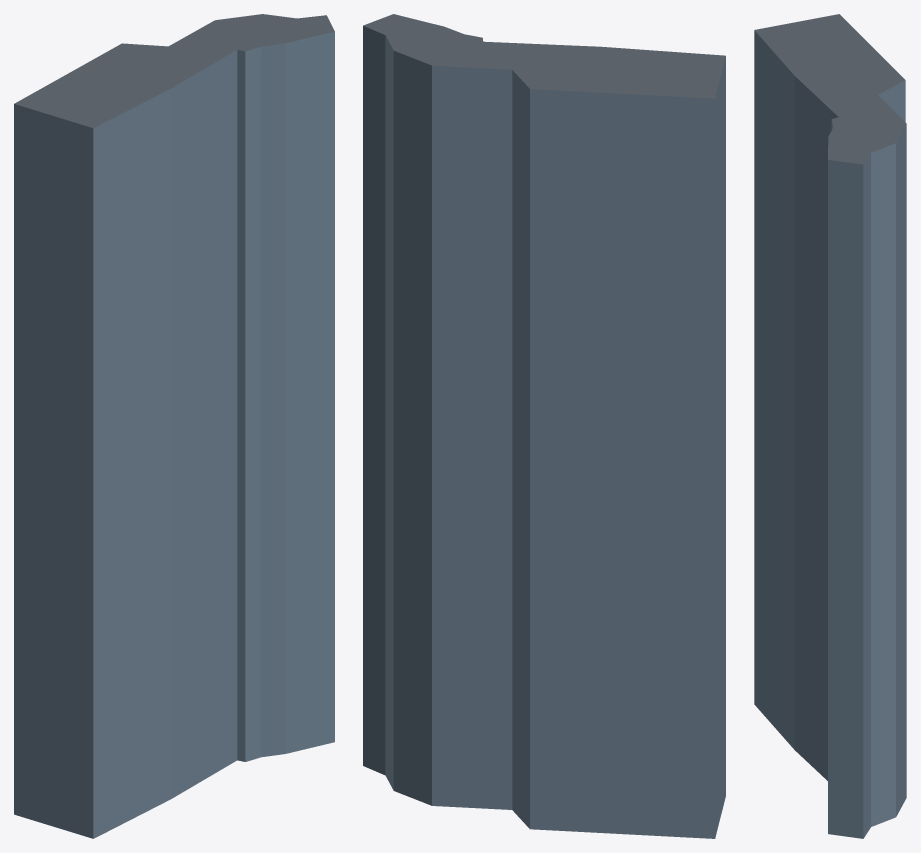
3 renders of one model, left to right at view 1: azimuth 30°, elevation 25°; view 2: azimuth 150°, elevation 25°; view 3: azimuth 270°, elevation 25°, orthographic. The views are drawn at different scales.
Parts seen in each view (by area): view 1: HP-w1415996977; view 2: HP-w1415996977; view 3: HP-w1415996977.
Boxes of the visible parts, bbox=[...] form: HP-w1415996977: bbox=[14, 14, 334, 838]; HP-w1415996977: bbox=[363, 14, 725, 838]; HP-w1415996977: bbox=[754, 14, 906, 838].
Bounding box in the file's own units: 64.69 × 135 × 27.66.
